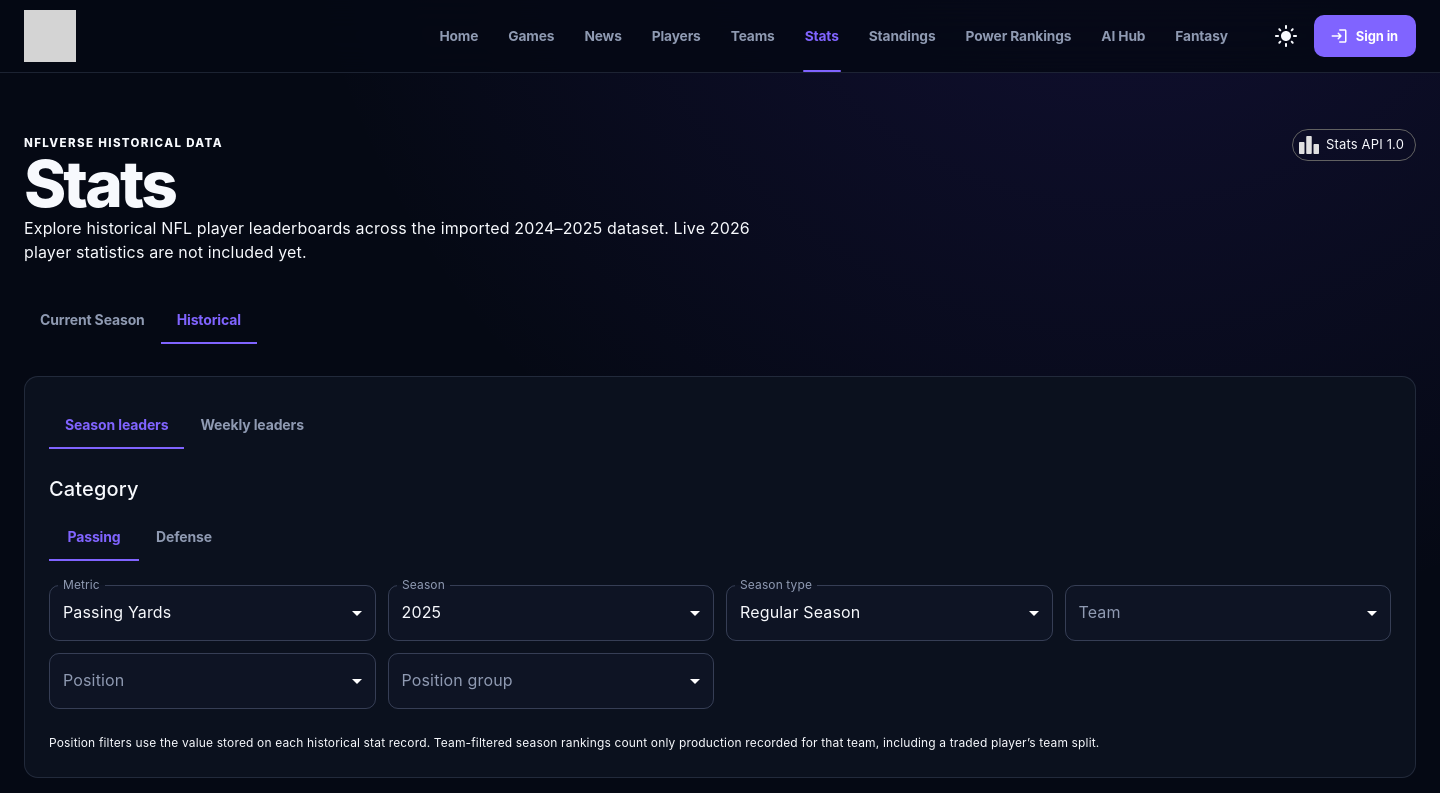
Test: public Stats Hub page › changes category to the first metadata-supported metric and shares filter state
Click the tab "Defense": (184,537) [139,513,229,561]
(page scrolled)
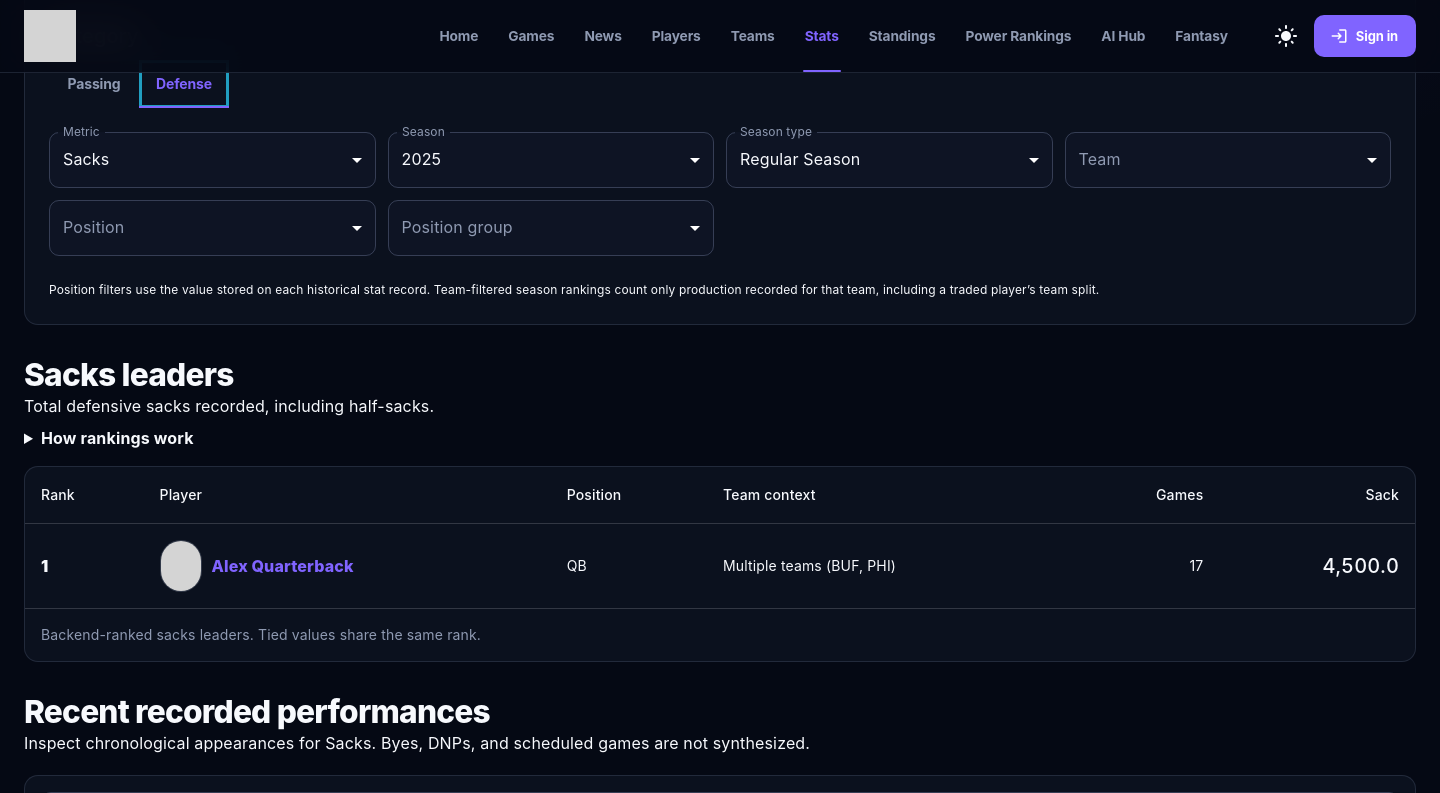
expect the text "Total defensive sacks recorded, including half-sacks." is shown: met, box [24,396,434,416]
